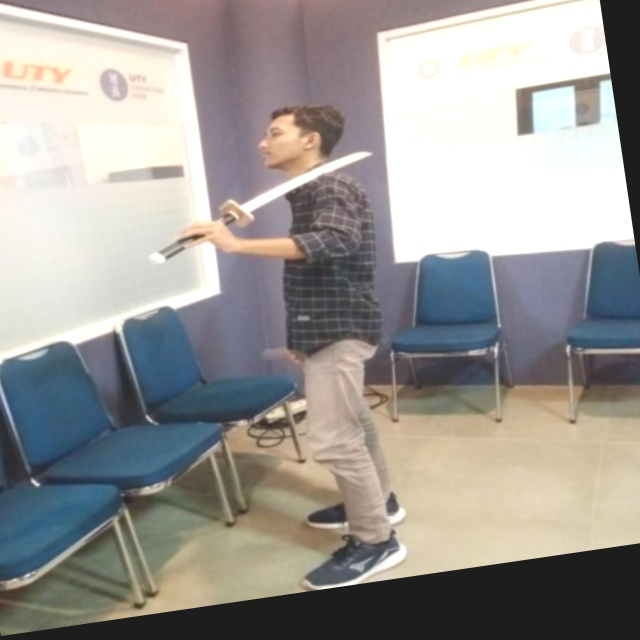Sharp-Object: (139, 142, 389, 268)
